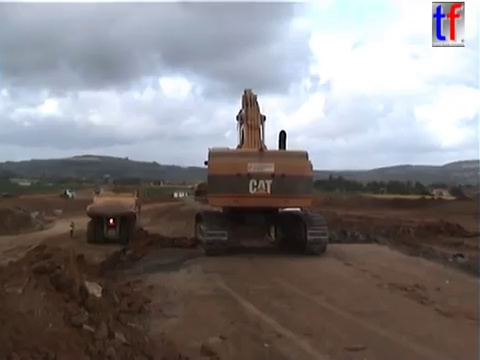excavator: (191, 86, 331, 258)
truck: (84, 186, 141, 246), (191, 180, 217, 205), (59, 188, 77, 200)
worker: (67, 219, 77, 240)
